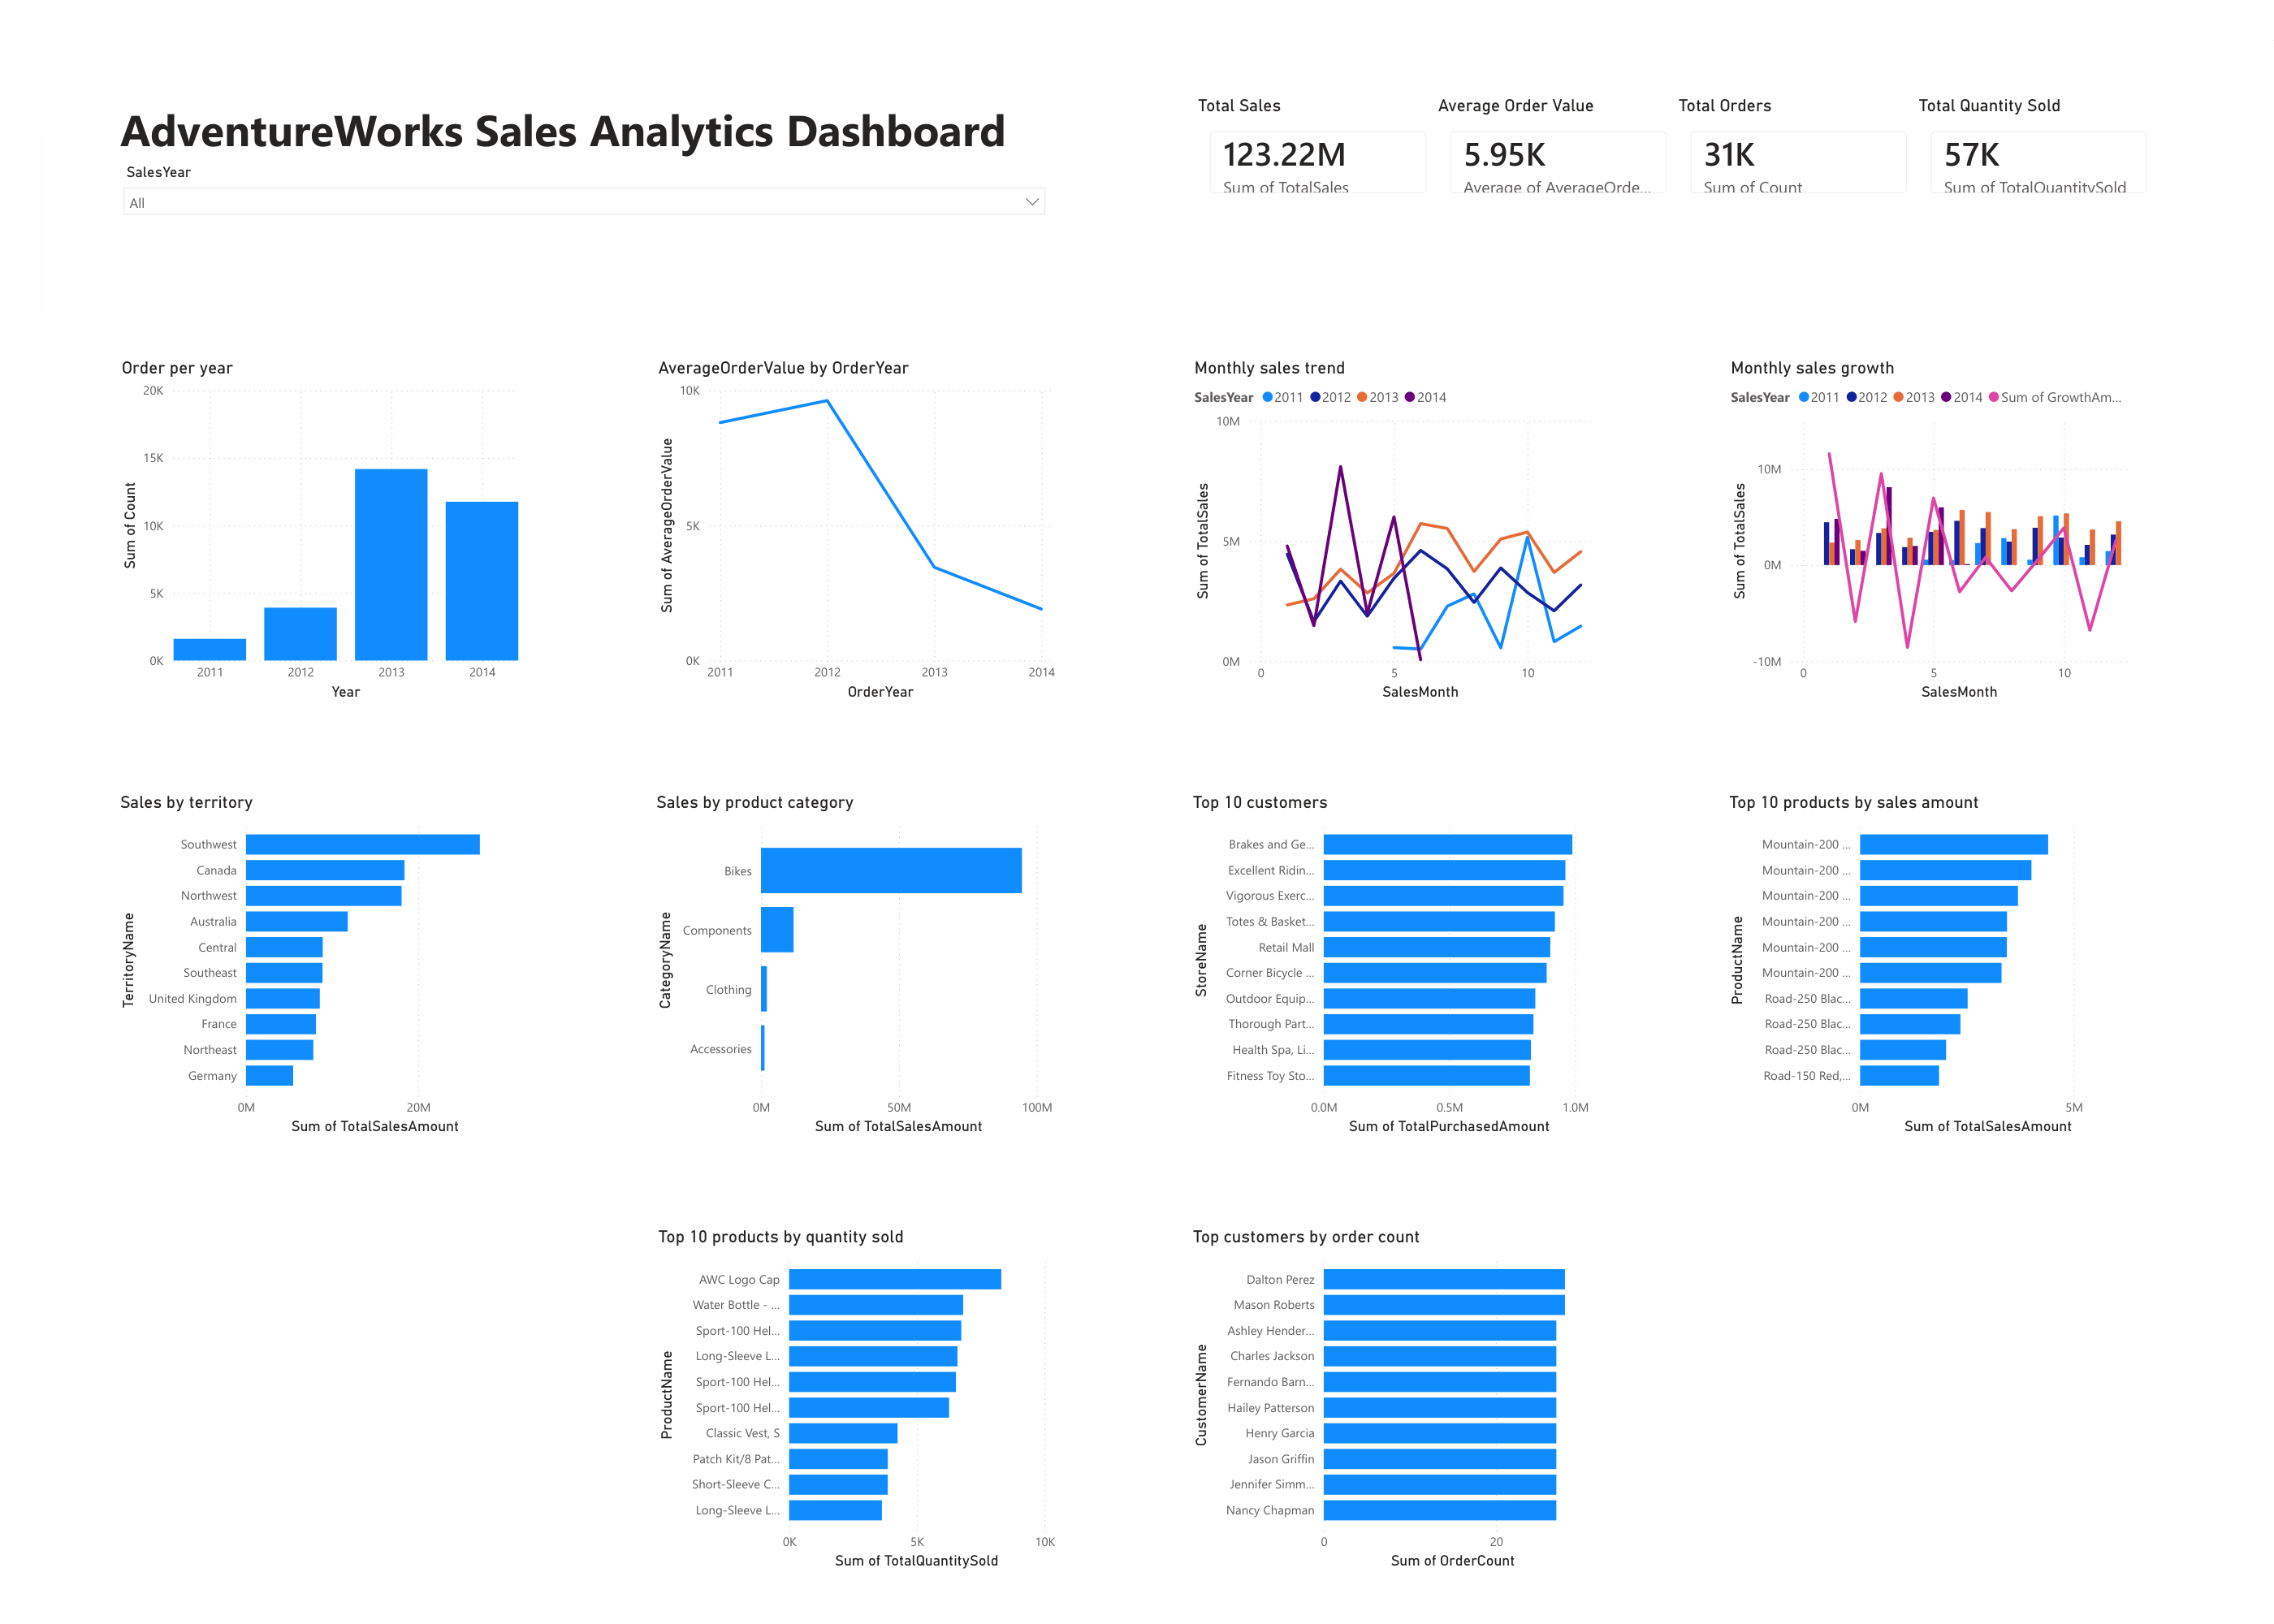

The page's visual inventory and layout, read from the dashboard file:
{"tool":"powerbi","page":{"name":"Page 1","canvas":[1280,720],"ordinal":0},"visuals":[{"type":"clusteredColumnChart","fields":{"Category":["orders_per_year.Year"],"Y":["Sum(orders_per_year.Count)"]},"box":[10,0,280,280],"z":0},{"type":"lineChart","fields":{"Category":["monthly_sales_trend.SalesMonth"],"Y":["Sum(monthly_sales_trend.TotalSales)"],"Series":["monthly_sales_trend.SalesYear"]},"box":[10,290,280,280],"z":1},{"type":"lineClusteredColumnComboChart","fields":{"Category":["monthly_sales_growth.SalesMonth"],"Y":["Sum(monthly_sales_growth.TotalSales)"],"Y2":["Sum(monthly_sales_growth.GrowthAmount)"],"Series":["monthly_sales_growth.SalesYear"]},"box":[10,570,280,150],"z":2},{"type":"clusteredBarChart","fields":{"Category":["sales_by_territory.TerritoryName"],"Y":["Sum(sales_by_territory.TotalSalesAmount)"]},"box":[300,0,280,280],"z":3},{"type":"clusteredBarChart","fields":{"Category":["sales_by_product_category.CategoryName"],"Y":["Sum(sales_by_product_category.TotalSalesAmount)"]},"box":[300,290,280,280],"z":4},{"type":"clusteredBarChart","fields":{"Category":["top_10_customers.StoreName"],"Y":["Sum(top_10_customers.TotalPurchasedAmount)"]},"box":[300,570,280,150],"z":5},{"type":"clusteredBarChart","fields":{"Category":["top_10_products_by_sales_amount.ProductName"],"Y":["Sum(top_10_products_by_sales_amount.TotalSalesAmount)"]},"box":[590,0,280,280],"z":6},{"type":"lineChart","fields":{"Y":["Sum(average_order_value_by_year.AverageOrderValue)"],"Category":["average_order_value_by_year.OrderYear"]},"box":[590,290,280,280],"z":7},{"type":"clusteredBarChart","fields":{"Category":["top_10_products_by_quantity_sold.ProductName"],"Y":["Sum(top_10_products_by_quantity_sold.TotalQuantitySold)"]},"box":[590,570,280,150],"z":8},{"type":"clusteredBarChart","fields":{"Category":["top_customers_by_order_count.CustomerName"],"Y":["Sum(top_customers_by_order_count.OrderCount)"]},"box":[880,0,280,280],"z":9}]}

Visuals, with their boxes on the page's 1280x720 design canvas (x1, y1, x2, y2). These are canvas units, not pixel positions in the 2274x1624 screenshot, which may show the page scaled, cropped or inside an application window:
clusteredColumnChart - orders_per_year.Year x Sum(orders_per_year.Count): x1=10 y1=0 x2=290 y2=280
lineChart - monthly_sales_trend.SalesMonth x Sum(monthly_sales_trend.TotalSales): x1=10 y1=290 x2=290 y2=570
lineClusteredColumnComboChart - monthly_sales_growth.SalesMonth x Sum(monthly_sales_growth.TotalSales): x1=10 y1=570 x2=290 y2=720
clusteredBarChart - sales_by_territory.TerritoryName x Sum(sales_by_territory.TotalSalesAmount): x1=300 y1=0 x2=580 y2=280
clusteredBarChart - sales_by_product_category.CategoryName x Sum(sales_by_product_category.TotalSalesAmount): x1=300 y1=290 x2=580 y2=570
clusteredBarChart - top_10_customers.StoreName x Sum(top_10_customers.TotalPurchasedAmount): x1=300 y1=570 x2=580 y2=720
clusteredBarChart - top_10_products_by_sales_amount.ProductName x Sum(top_10_products_by_sales_amount.TotalSalesAmount): x1=590 y1=0 x2=870 y2=280
lineChart - Sum(average_order_value_by_year.AverageOrderValue) x average_order_value_by_year.OrderYear: x1=590 y1=290 x2=870 y2=570
clusteredBarChart - top_10_products_by_quantity_sold.ProductName x Sum(top_10_products_by_quantity_sold.TotalQuantitySold): x1=590 y1=570 x2=870 y2=720
clusteredBarChart - top_customers_by_order_count.CustomerName x Sum(top_customers_by_order_count.OrderCount): x1=880 y1=0 x2=1160 y2=280
